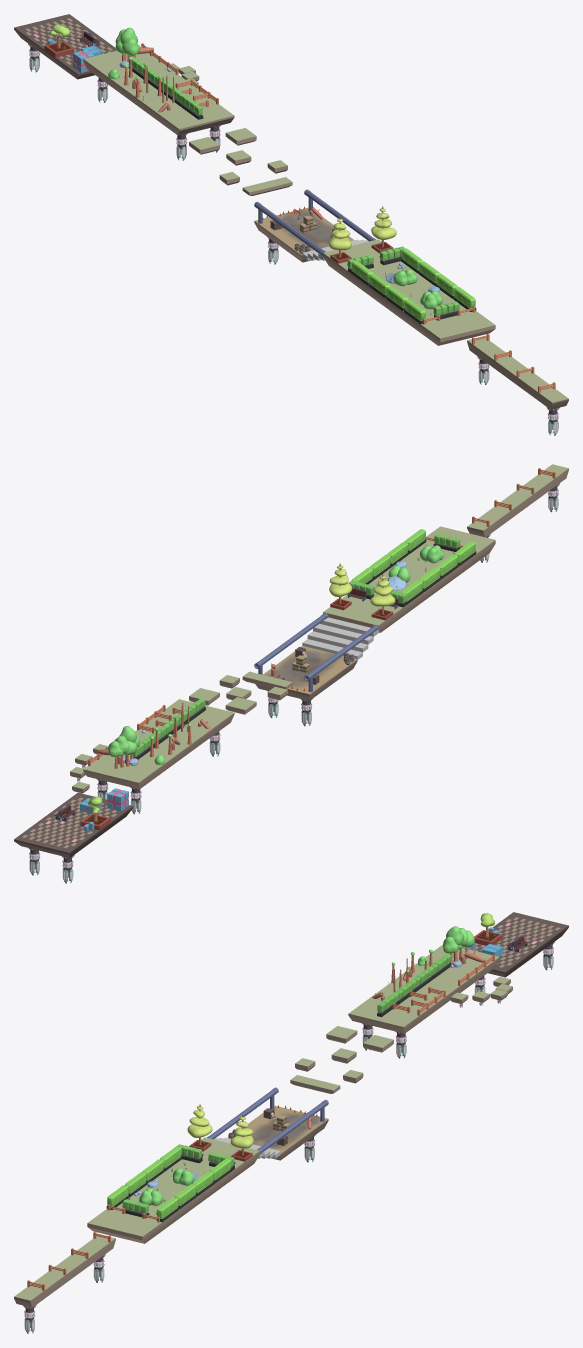
The model's file is Map_Textured.fbx.
3 views of the same model, one above another, from view 1: azimuth 30°, elevation 25°; view 2: azimuth 150°, elevation 25°; view 3: azimuth 330°, elevation 25° (orthographic).
Parts seen in each view (by area): view 1: Garden_Platform, Q1, Start_Platform, Final_Sprint_Platform, Q3, tree_c1, Q12; view 2: Q1, Garden_Platform, Start_Platform, Q3, Final_Sprint_Platform, Pipe_big, Pipe_big1, tree_c, tree_c1; view 3: Garden_Platform, Q1, Start_Platform, Final_Sprint_Platform, Q3, tree_c, Q12.
Part boxes in pixels (box(x1,y1,x2,y2)): Garden_Platform: box(323, 239, 495, 345); Q1: box(83, 46, 234, 135); Start_Platform: box(14, 14, 116, 79); Final_Sprint_Platform: box(467, 337, 568, 409); Q3: box(254, 207, 354, 262); tree_c1: box(371, 206, 396, 247); Q12: box(242, 177, 292, 195); Q1: box(83, 699, 234, 789); Garden_Platform: box(323, 526, 495, 632); Start_Platform: box(14, 792, 133, 857); Q3: box(255, 646, 357, 700); Final_Sprint_Platform: box(467, 464, 568, 537); Pipe_big: box(304, 625, 378, 681); Pipe_big1: box(254, 613, 328, 668); tree_c: box(370, 574, 395, 614); tree_c1: box(329, 563, 352, 604); Garden_Platform: box(87, 1137, 259, 1243); Q1: box(348, 944, 499, 1033); Start_Platform: box(475, 912, 568, 977); Final_Sprint_Platform: box(14, 1235, 115, 1307); Q3: box(247, 1105, 328, 1160); tree_c: box(187, 1104, 212, 1145); Q12: box(290, 1075, 340, 1093).
Size of the model in its own units: 48.59 by 58.09 by 487.
19 materials, 19 textured.
